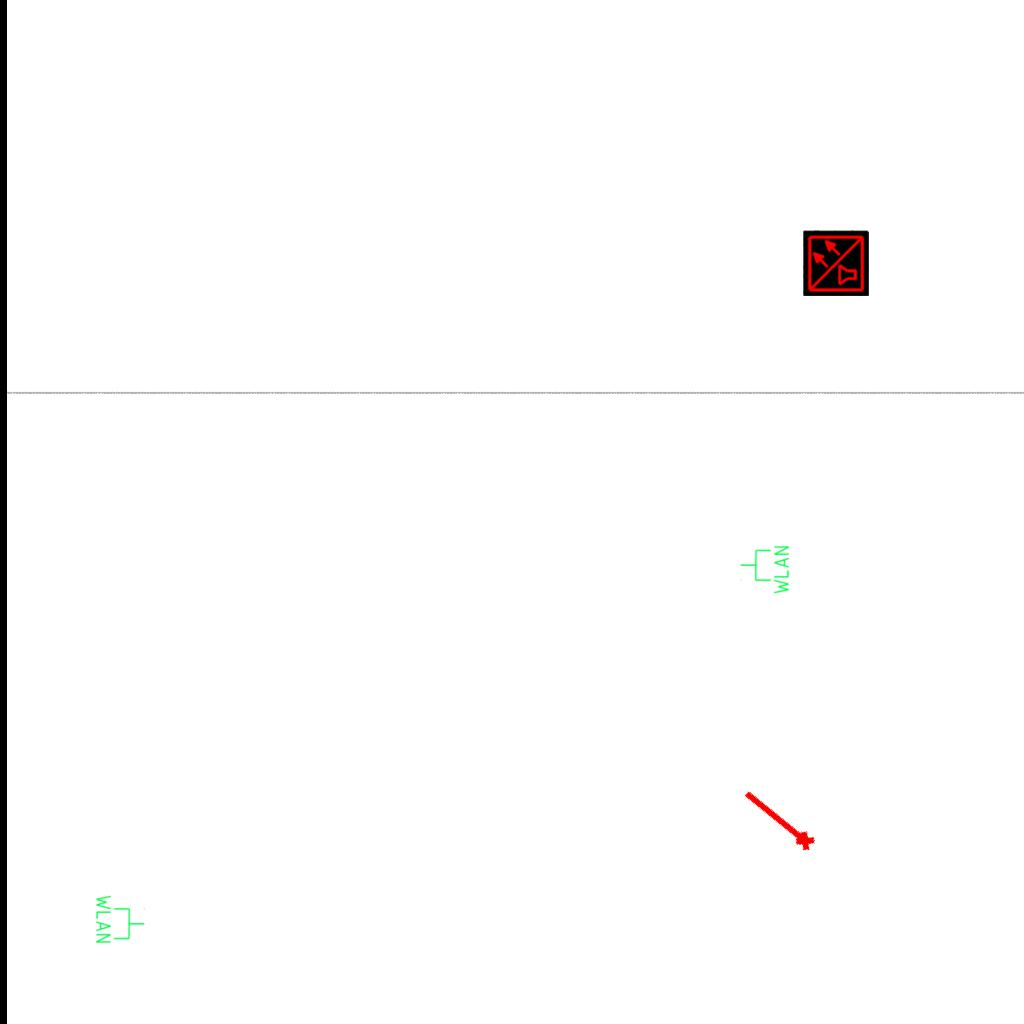ASR_Ansaugoeffnung: (736, 783, 820, 858)
OKW_Multisensormelder_(Kombination_optischer_Rauch-Kahlenmonoxid_Waerme-Melder): (803, 230, 869, 296)
WLAN: (94, 893, 146, 945), (739, 544, 791, 596)
